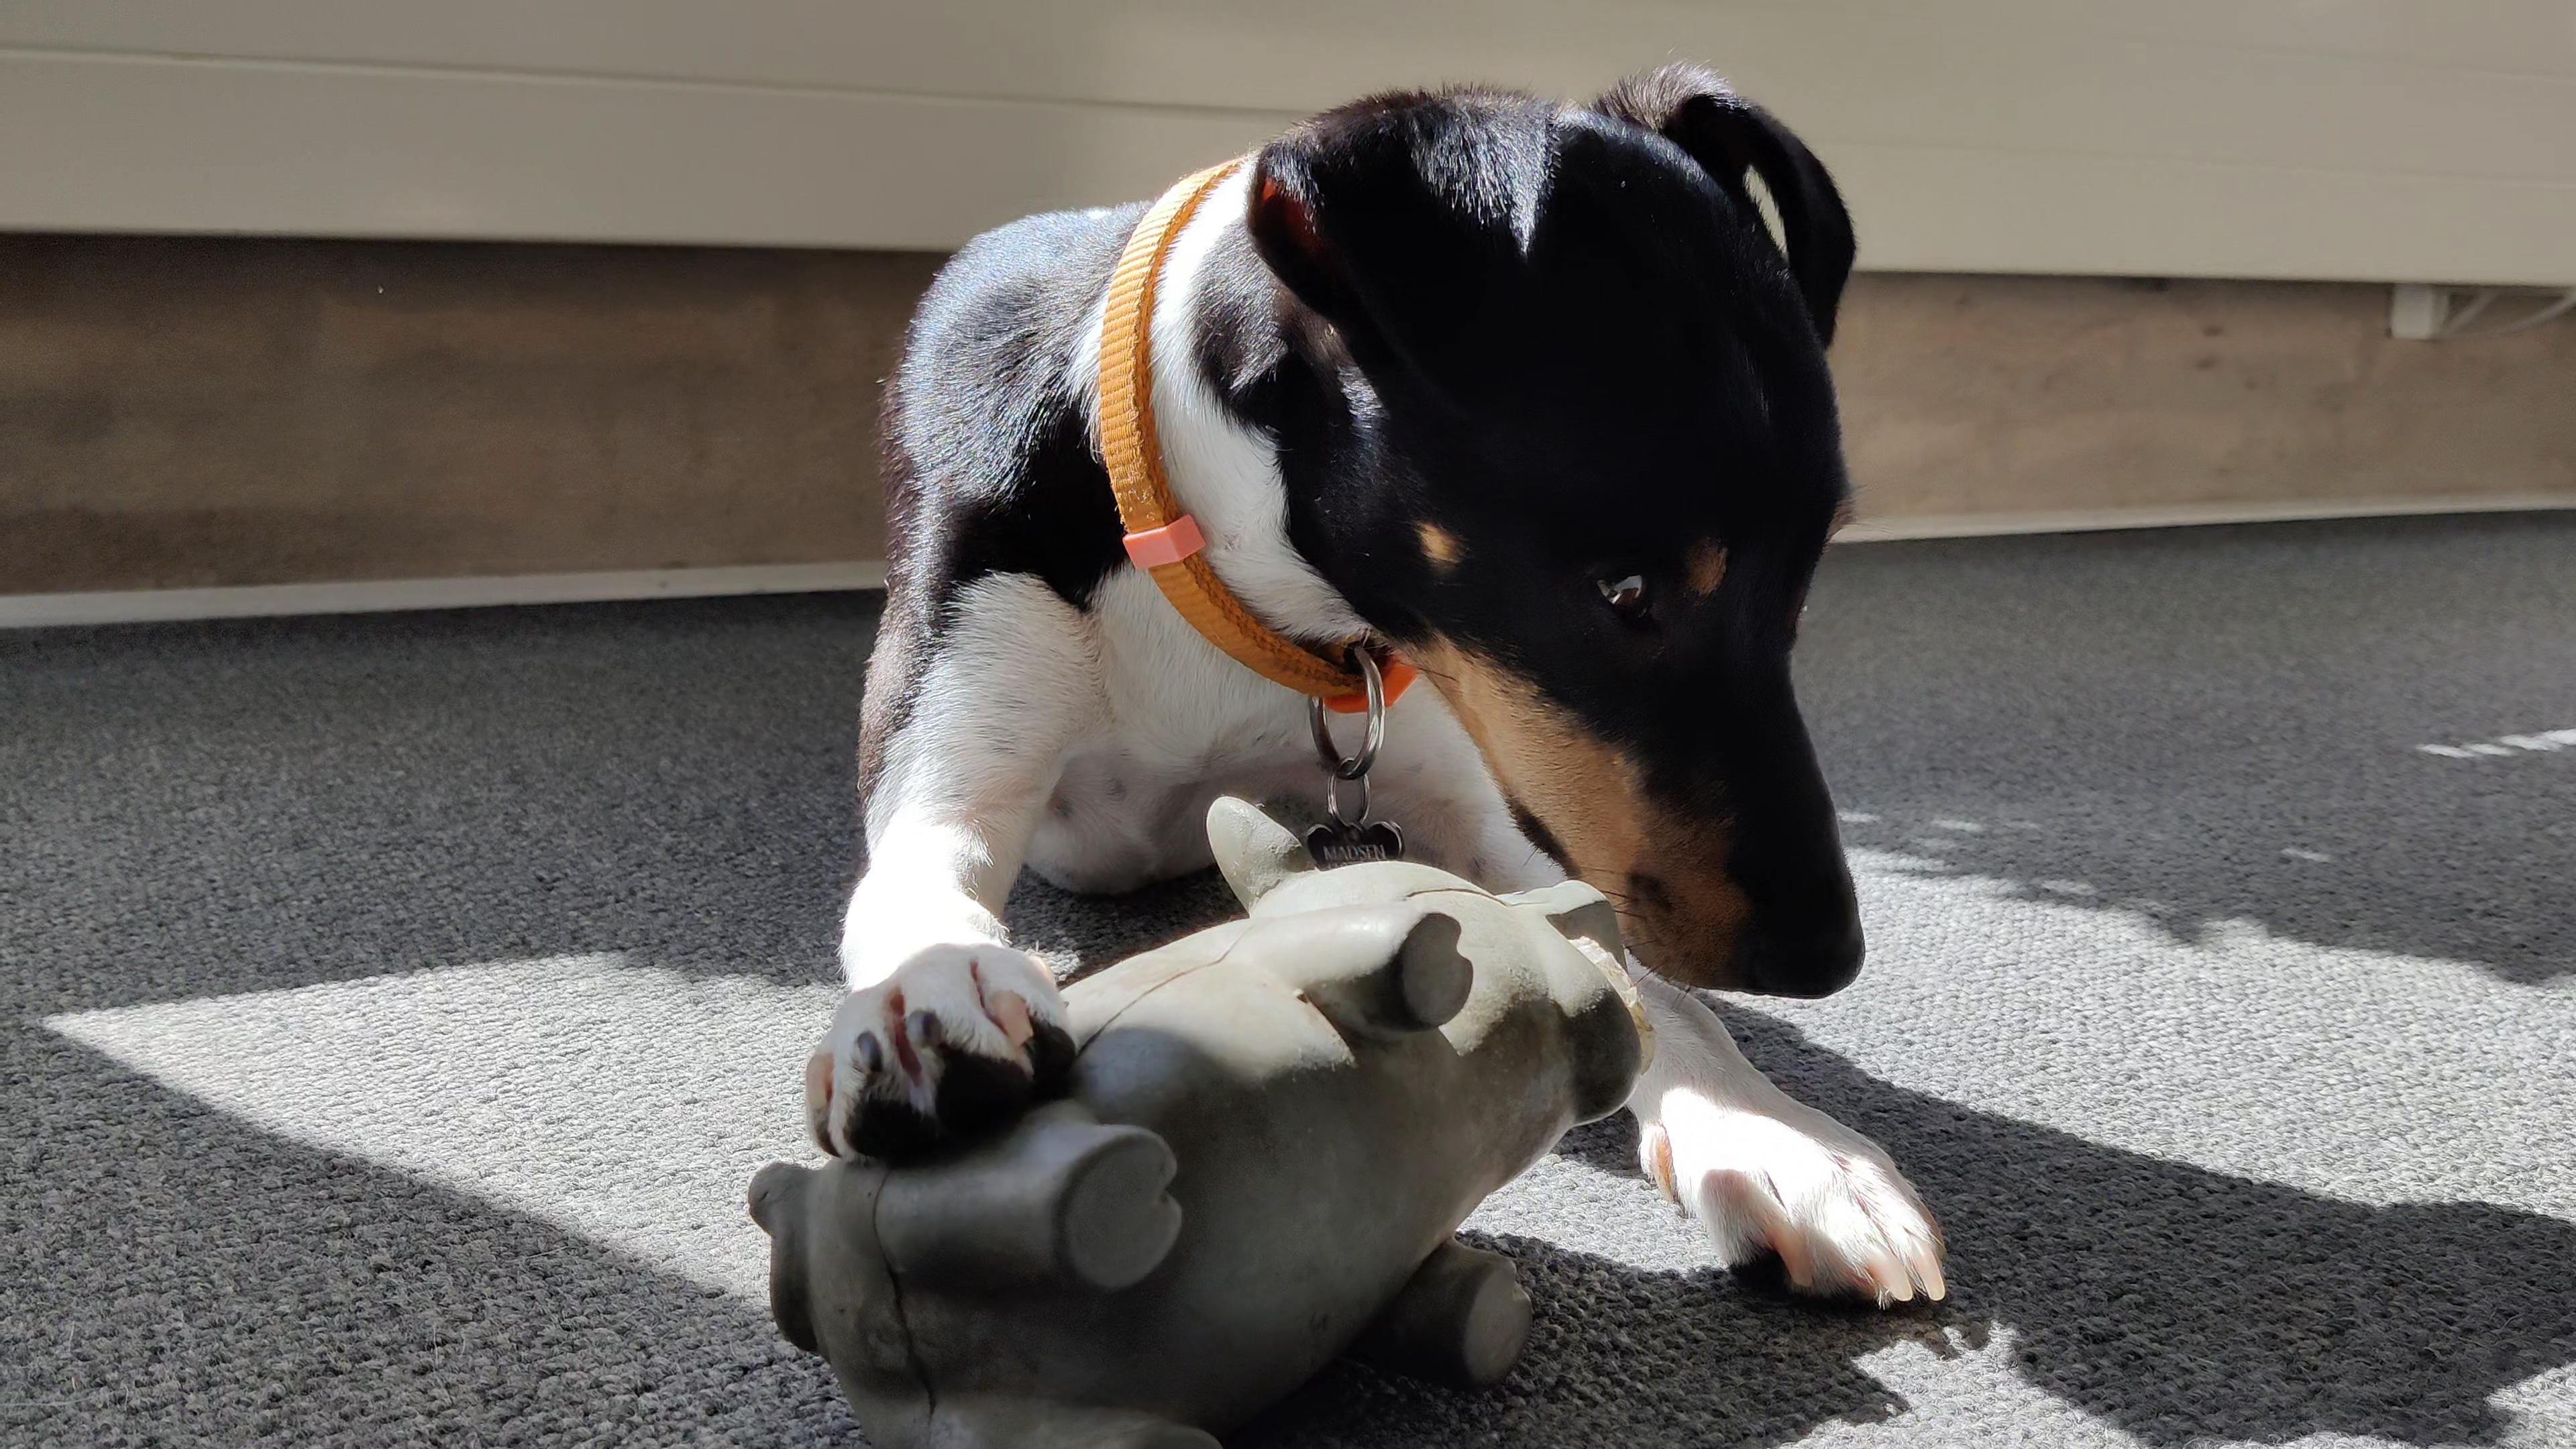Dog: (798, 53, 1990, 1320)
